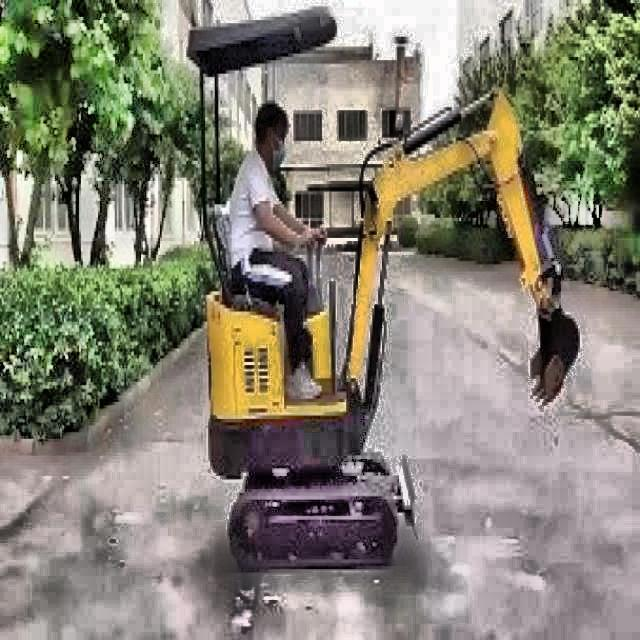bull_dozer/loader/grader: (184, 5, 582, 575)
person: (229, 98, 328, 402)
